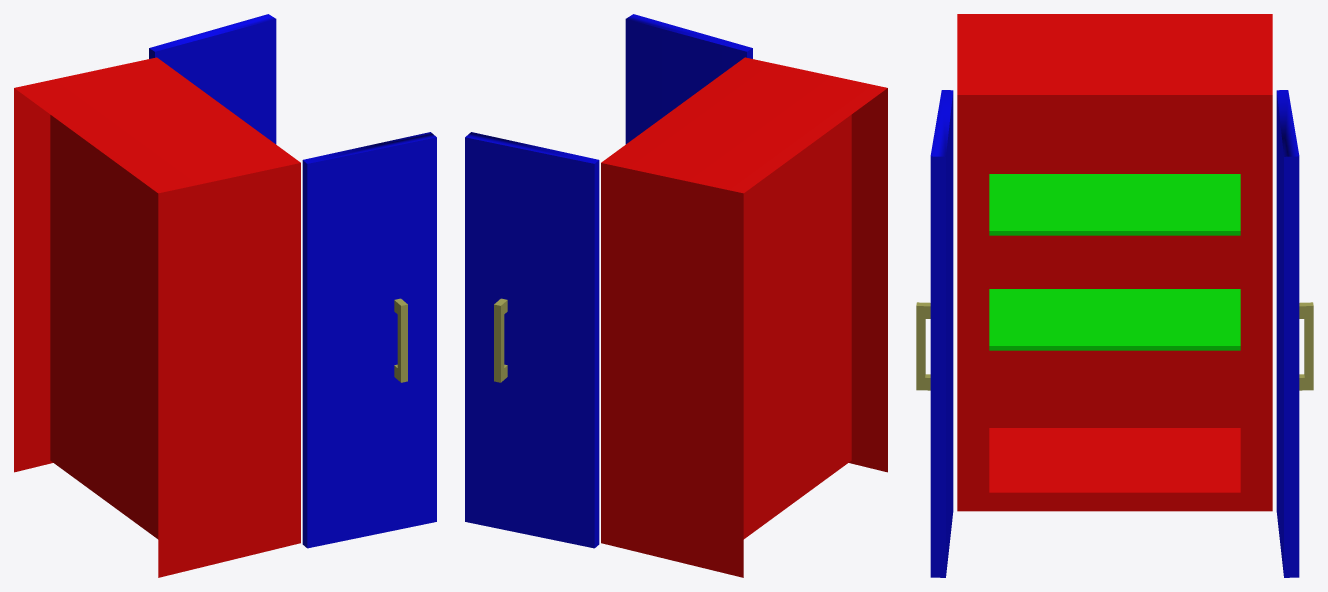
Rendered from Aufbewahrungsschrank_1_low.fbx.
3 views of the same model, side by side, from view 1: azimuth 30°, elevation 25°; view 2: azimuth 150°, elevation 25°; view 3: azimuth 270°, elevation 25° (orthographic). The views are drawn at different scales.
Parts seen in each view (by area): view 1: Aufbewahrungsschrank_1_low; view 2: Aufbewahrungsschrank_1_low; view 3: Aufbewahrungsschrank_1_low.
Boxes of the visible parts, bbox=[...] form: Aufbewahrungsschrank_1_low: bbox=[14, 14, 436, 577]; Aufbewahrungsschrank_1_low: bbox=[465, 14, 887, 577]; Aufbewahrungsschrank_1_low: bbox=[916, 14, 1313, 577].
Bounding box in the file's own units: 1.31 × 1.8 × 1.54.
